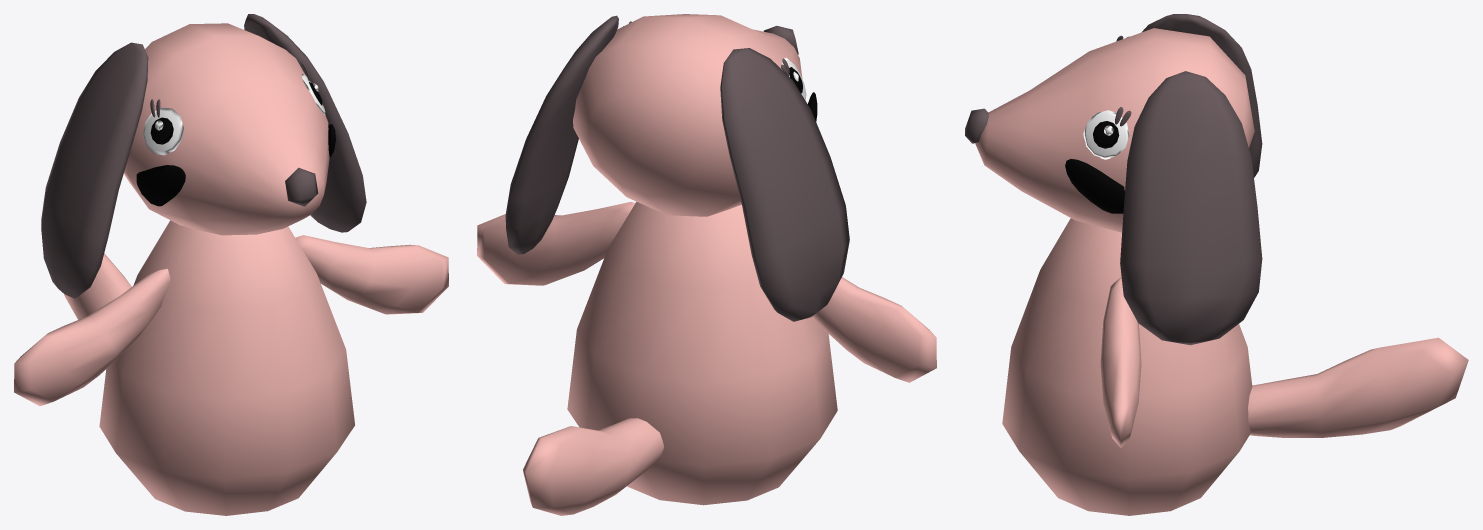
The model's file is dog.glb.
The picture shows the model from 3 angles, left to right: view 1: azimuth 30°, elevation 25°; view 2: azimuth 150°, elevation 25°; view 3: azimuth 270°, elevation 25°; orthographic projection. The views are drawn at different scales.
Visible parts, largest first — view 1: doll_dog; view 2: doll_dog; view 3: doll_dog.
Boxes of the visible parts, x1=… form: doll_dog: x1=14, y1=14, x2=448, y2=515; doll_dog: x1=477, y1=14, x2=936, y2=515; doll_dog: x1=965, y1=14, x2=1468, y2=515.
Size of the model in its own units: 1.14 by 1.14 by 1.13.
